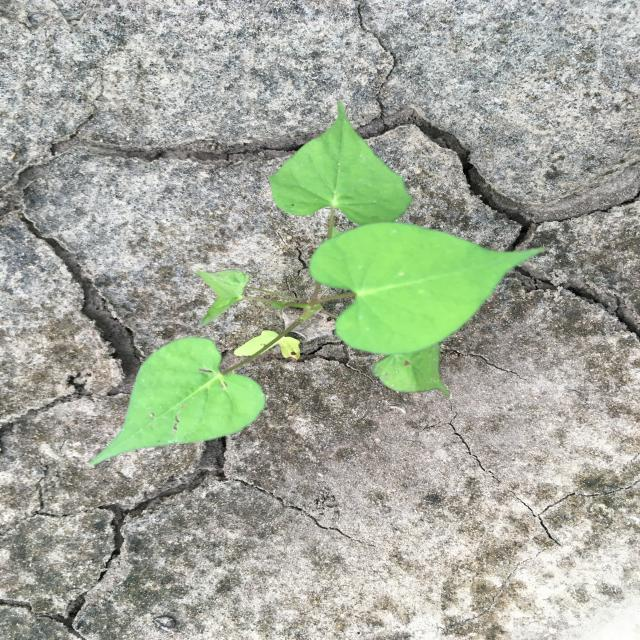MorningGlory: (88, 102, 544, 468)
